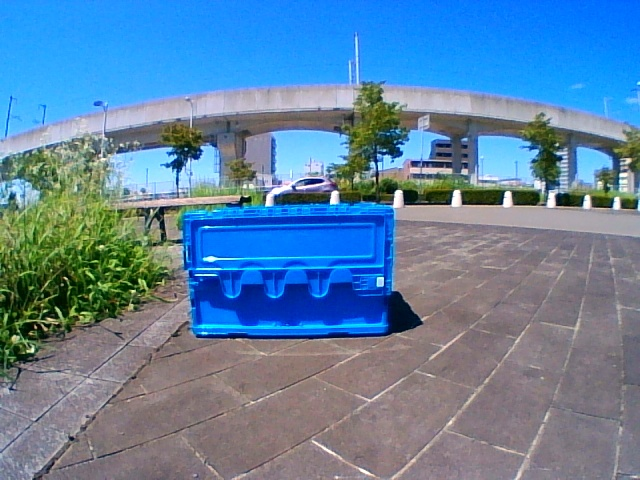blue_box: (192, 210, 391, 335)
